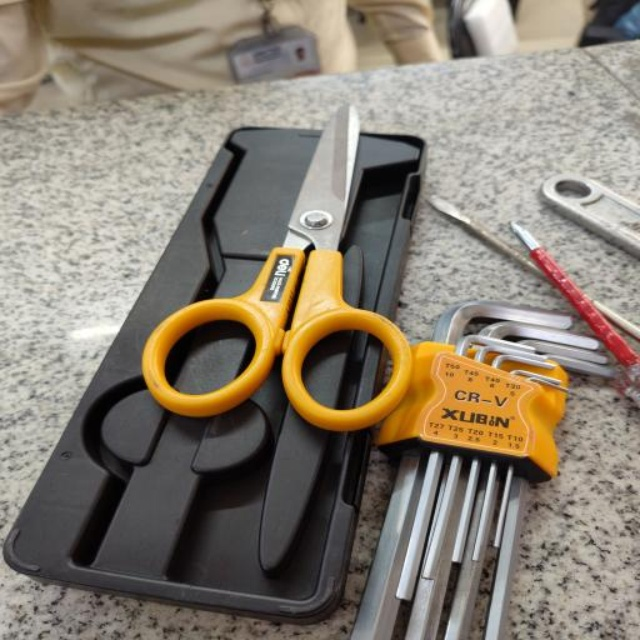scissor: (138, 101, 421, 438)
